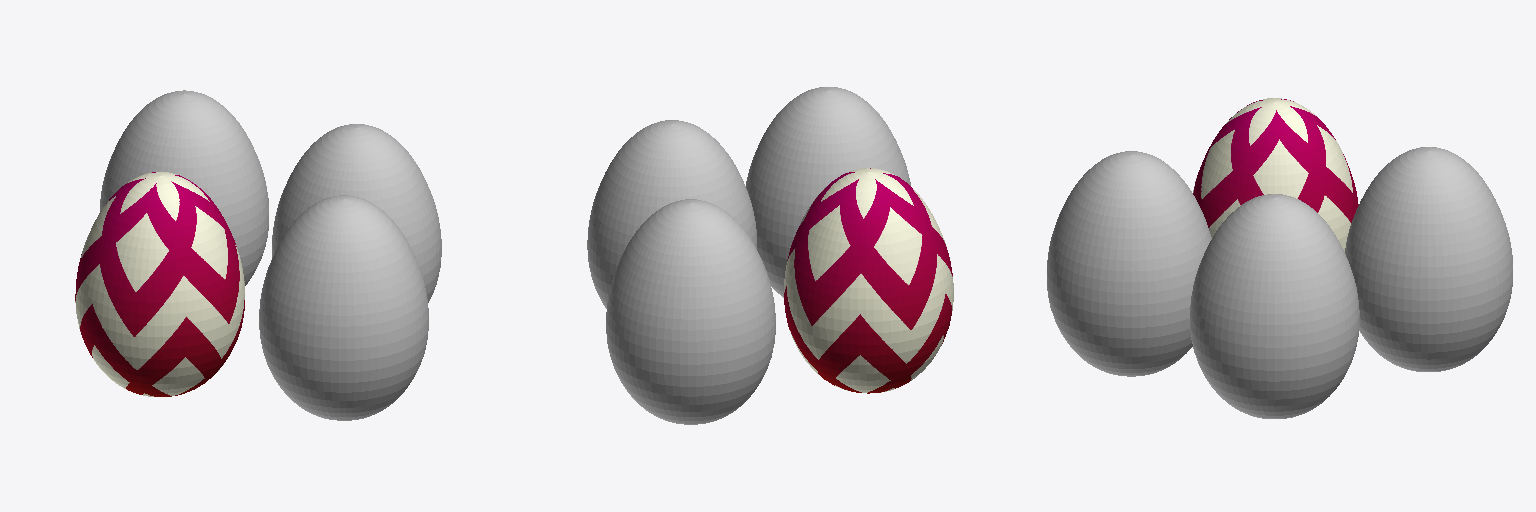
The picture shows the model from 3 angles: view 1: azimuth 30°, elevation 25°; view 2: azimuth 150°, elevation 25°; view 3: azimuth 270°, elevation 25°; orthographic projection.
Parts seen in each view (by area): view 1: EGG1_Sphere.002, EGG3_Sphere.003, EGG4_Sphere.004, EGG2_Sphere; view 2: EGG4_Sphere.004, EGG3_Sphere.003, EGG1_Sphere.002, EGG2_Sphere; view 3: EGG2_Sphere, EGG4_Sphere.004, EGG1_Sphere.002, EGG3_Sphere.003.
Boxes of the visible parts, x1,y1,x2,y2 form: EGG1_Sphere.002: [259, 195, 428, 420]; EGG3_Sphere.003: [75, 172, 244, 396]; EGG4_Sphere.004: [100, 90, 268, 285]; EGG2_Sphere: [272, 124, 441, 302]; EGG4_Sphere.004: [606, 199, 775, 424]; EGG3_Sphere.003: [784, 168, 953, 393]; EGG1_Sphere.002: [746, 87, 910, 297]; EGG2_Sphere: [587, 120, 756, 308]; EGG2_Sphere: [1190, 194, 1359, 418]; EGG4_Sphere.004: [1345, 147, 1512, 371]; EGG1_Sphere.002: [1047, 151, 1211, 376]; EGG3_Sphere.003: [1193, 98, 1358, 251].
Bounding box in the file's own units: 5.25 × 3.15 × 6.18.
Materials: 4 (1 with a texture image).